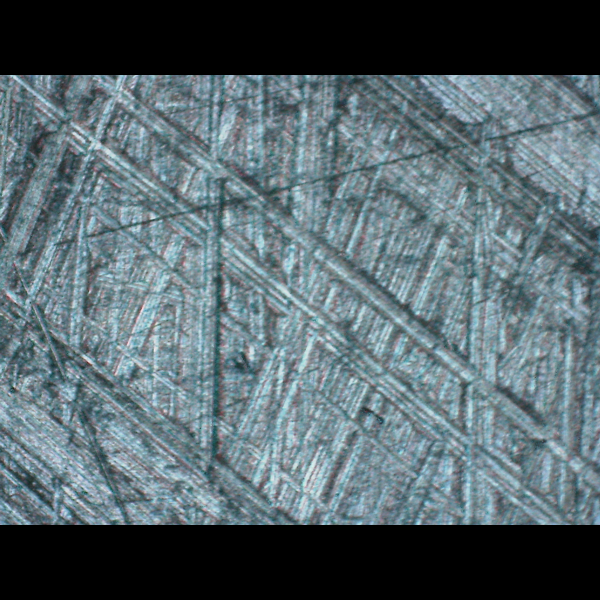d: (66, 93, 545, 505)
